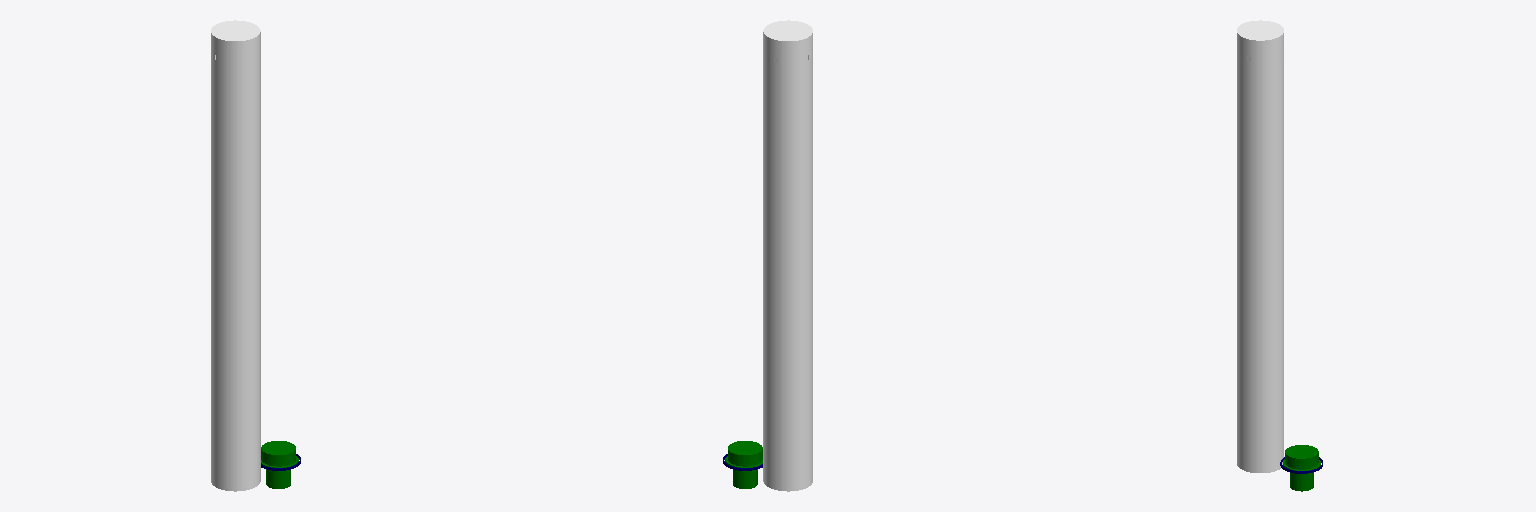
robot.urdf — rocket:
<?xml version="1.0"?>
<robot name="rocket">

  <!-- ====================== -->
  <!-- 1) LINK: MAIN BODY    -->
  <!-- ====================== -->
  <link name="main_body">
    <inertial>
      <!-- Titik acuan inertial berada di tengah roket (0,0,0.5) -->
      <origin xyz="0 0 0.5" rpy="0 0 0"/>
      <!-- Total massa 10 kg -->
      <mass value="10.0"/>
      <!-- Inersia silinder solid: 
           I_z = 0.5 * m * r^2 = 0.5*10*(0.05^2) = 0.0125 
           I_x = I_y = (1/12)*m*(3r^2+h^2) ≈ (10/12)*(3*0.0025+1) ≈ 0.84  -->
      <inertia ixx="0.84" ixy="0.0" ixz="0.0"
               iyy="0.84" iyz="0.0"
               izz="0.0125"/>
    </inertial>

    <visual>
      <origin xyz="0 0 0" rpy="0 0 0"/>
      <geometry>
        <mesh filename="meshes/mini_rocket_main_body.dae" scale="1 1 1"/>
      </geometry>
      <material name="white">
        <color rgba="1 1 1 1"/>
      </material>
    </visual>

    <collision>
      <origin xyz="0 0 0" rpy="0 0 0"/>
      <geometry>
        <mesh filename="meshes/mini_rocket_main_body.dae" scale="1 1 1"/>
      </geometry>
    </collision>
  </link>

  <!-- ====================================== -->
  <!-- 2) JOINT: MAIN_BODY -> PLATE (Revolute, sumbu X) -->
  <!--    Terletak di ketinggian 0.02 m dari dasar -->
  <!-- ====================================== -->
  <joint name="plate_joint" type="revolute">
    <parent link="main_body"/>
    <child link="plate"/>
    <origin xyz="0.1 0 0.02" rpy="0 0 0"/>
    <axis xyz="0 0 1"/>
    <limit effort="100.0" velocity="100.0" lower="-1.57" upper="1.57"/>
  </joint>

  <!-- ====================== -->
  <!-- 3) LINK: PLATE        -->
  <!-- ====================== -->
  <link name="plate">
    <!-- Tidak diberi massa/inersia (massless) -->
    <inertial>
      <origin xyz="0 0 0" rpy="0 0 0"/>
      <mass value="0.0"/>
      <inertia ixx="0.0" ixy="0.0" ixz="0.0"
               iyy="0.0" iyz="0.0"
               izz="0.0"/>
    </inertial>

    <visual>
      <origin xyz="0 0 0" rpy="0 0 0"/>
      <geometry>
        <mesh filename="meshes/mini_rocket_xy.dae" scale="1 1 1"/>
      </geometry>
      <material name="grey">
        <color rgba="0.0 0.0 0.5 1"/>
      </material>
    </visual>

    <collision>
      <origin xyz="0 0 0" rpy="0 0 0"/>
      <geometry>
        <mesh filename="meshes/mini_rocket_xy.dae" scale="1 1 1"/>
      </geometry>
    </collision>
  </link>

  <!-- ===================================================== -->
  <!-- 4) JOINT: PLATE -> ENGINE (Revolute, sumbu Y)         -->
  <!--    Engine terpasang tepat di atas plate (offset = 0)    -->
  <!-- ===================================================== -->
  <joint name="engine_joint" type="revolute">
    <parent link="plate"/>
    <child link="engine"/>
    <origin xyz="0 0 0" rpy="0 0 0"/>
    <axis xyz="0 1 0"/>
    <limit effort="100.0" velocity="100.0" lower="-10" upper="10"/>
  </joint>

  <!-- ====================== -->
  <!-- 5) LINK: ENGINE       -->
  <!-- ====================== -->
  <link name="engine">
    <!-- Massless -->
    <inertial>
      <origin xyz="0 0 0" rpy="0 0 0"/>
      <mass value="0.0"/>
      <inertia ixx="0.0" ixy="0.0" ixz="0.0"
               iyy="0.0" iyz="0.0"
               izz="0.0"/>
    </inertial>

    <visual>
      <origin xyz="0 0 0" rpy="0 0 0"/>
      <geometry>
        <mesh filename="meshes/mini_rocket_main_engine.dae" scale="1 1 1"/>
      </geometry>
      <material name="dark_grey">
        <color rgba="0.0 0.5 0.0 1"/>
      </material>
    </visual>

    <collision>
      <origin xyz="0 0 0" rpy="0 0 0"/>
      <geometry>
        <mesh filename="meshes/mini_rocket_main_engine.dae" scale="1 1 1"/>
      </geometry>
    </collision>
  </link>

  <!-- ================================================== -->
  <!-- 6) JOINT: MAIN_BODY -> RCS (Fixed)                -->
  <!--    Terletak di ketinggian 0.95 m dari dasar       -->
  <!-- ================================================== -->
  <joint name="rcs_joint" type="fixed">
    <parent link="main_body"/>
    <child link="rcs"/>
    <origin xyz="0 0 0.95" rpy="0 0 0"/>
  </joint>

  <!-- ====================== -->
  <!-- 7) LINK: RCS          -->
  <!-- ====================== -->
  <link name="rcs">
    <!-- Massless -->
    <inertial>
      <origin xyz="0 0 0" rpy="0 0 0"/>
      <mass value="0.0"/>
      <inertia ixx="0.0" ixy="0.0" ixz="0.0"
               iyy="0.0" iyz="0.0"
               izz="0.0"/>
    </inertial>

    <visual>
      <origin xyz="0 0 0" rpy="0 0 0"/>
      <geometry>
        <mesh filename="meshes/mini_rocket_upper_rcs.dae" scale="1 1 1"/>
      </geometry>
      <material name="white">
        <color rgba="1 1 1 1"/>
      </material>
    </visual>

    <collision>
      <origin xyz="0 0 0" rpy="0 0 0"/>
      <geometry>
        <mesh filename="meshes/mini_rocket_upper_rcs.dae" scale="1 1 1"/>
      </geometry>
    </collision>
  </link>

</robot>

--- Render facts (derived) ---
3 views of the same robot in one strip: view 1: azimuth 30°, elevation 25°; view 2: azimuth 150°, elevation 25°; view 3: azimuth 330°, elevation 25° (orthographic).
Model rocket with 4 links and 3 joints (2 revolute, 1 fixed), rooted at main_body, posed every joint at zero.
Links seen in each view (by area): view 1: main_body, engine; view 2: main_body, engine; view 3: main_body, engine.
Boxes of the visible links, left/top/right/bottom form: main_body: left=211, top=20, right=260, bottom=491; engine: left=261, top=441, right=298, bottom=488; main_body: left=763, top=20, right=812, bottom=491; engine: left=725, top=441, right=762, bottom=488; main_body: left=1237, top=20, right=1283, bottom=472; engine: left=1283, top=445, right=1320, bottom=491.
Size in the robot's own frame: 0.195 by 0.1 by 1.03 metres.
Meshes: 4 distinct files referenced, 4 mesh visuals loaded (4 Collada DAE).
